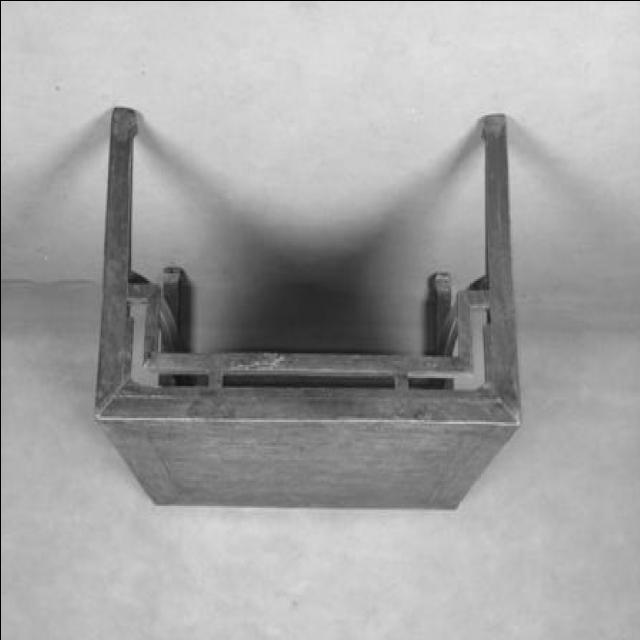table: (92, 108, 520, 510)
